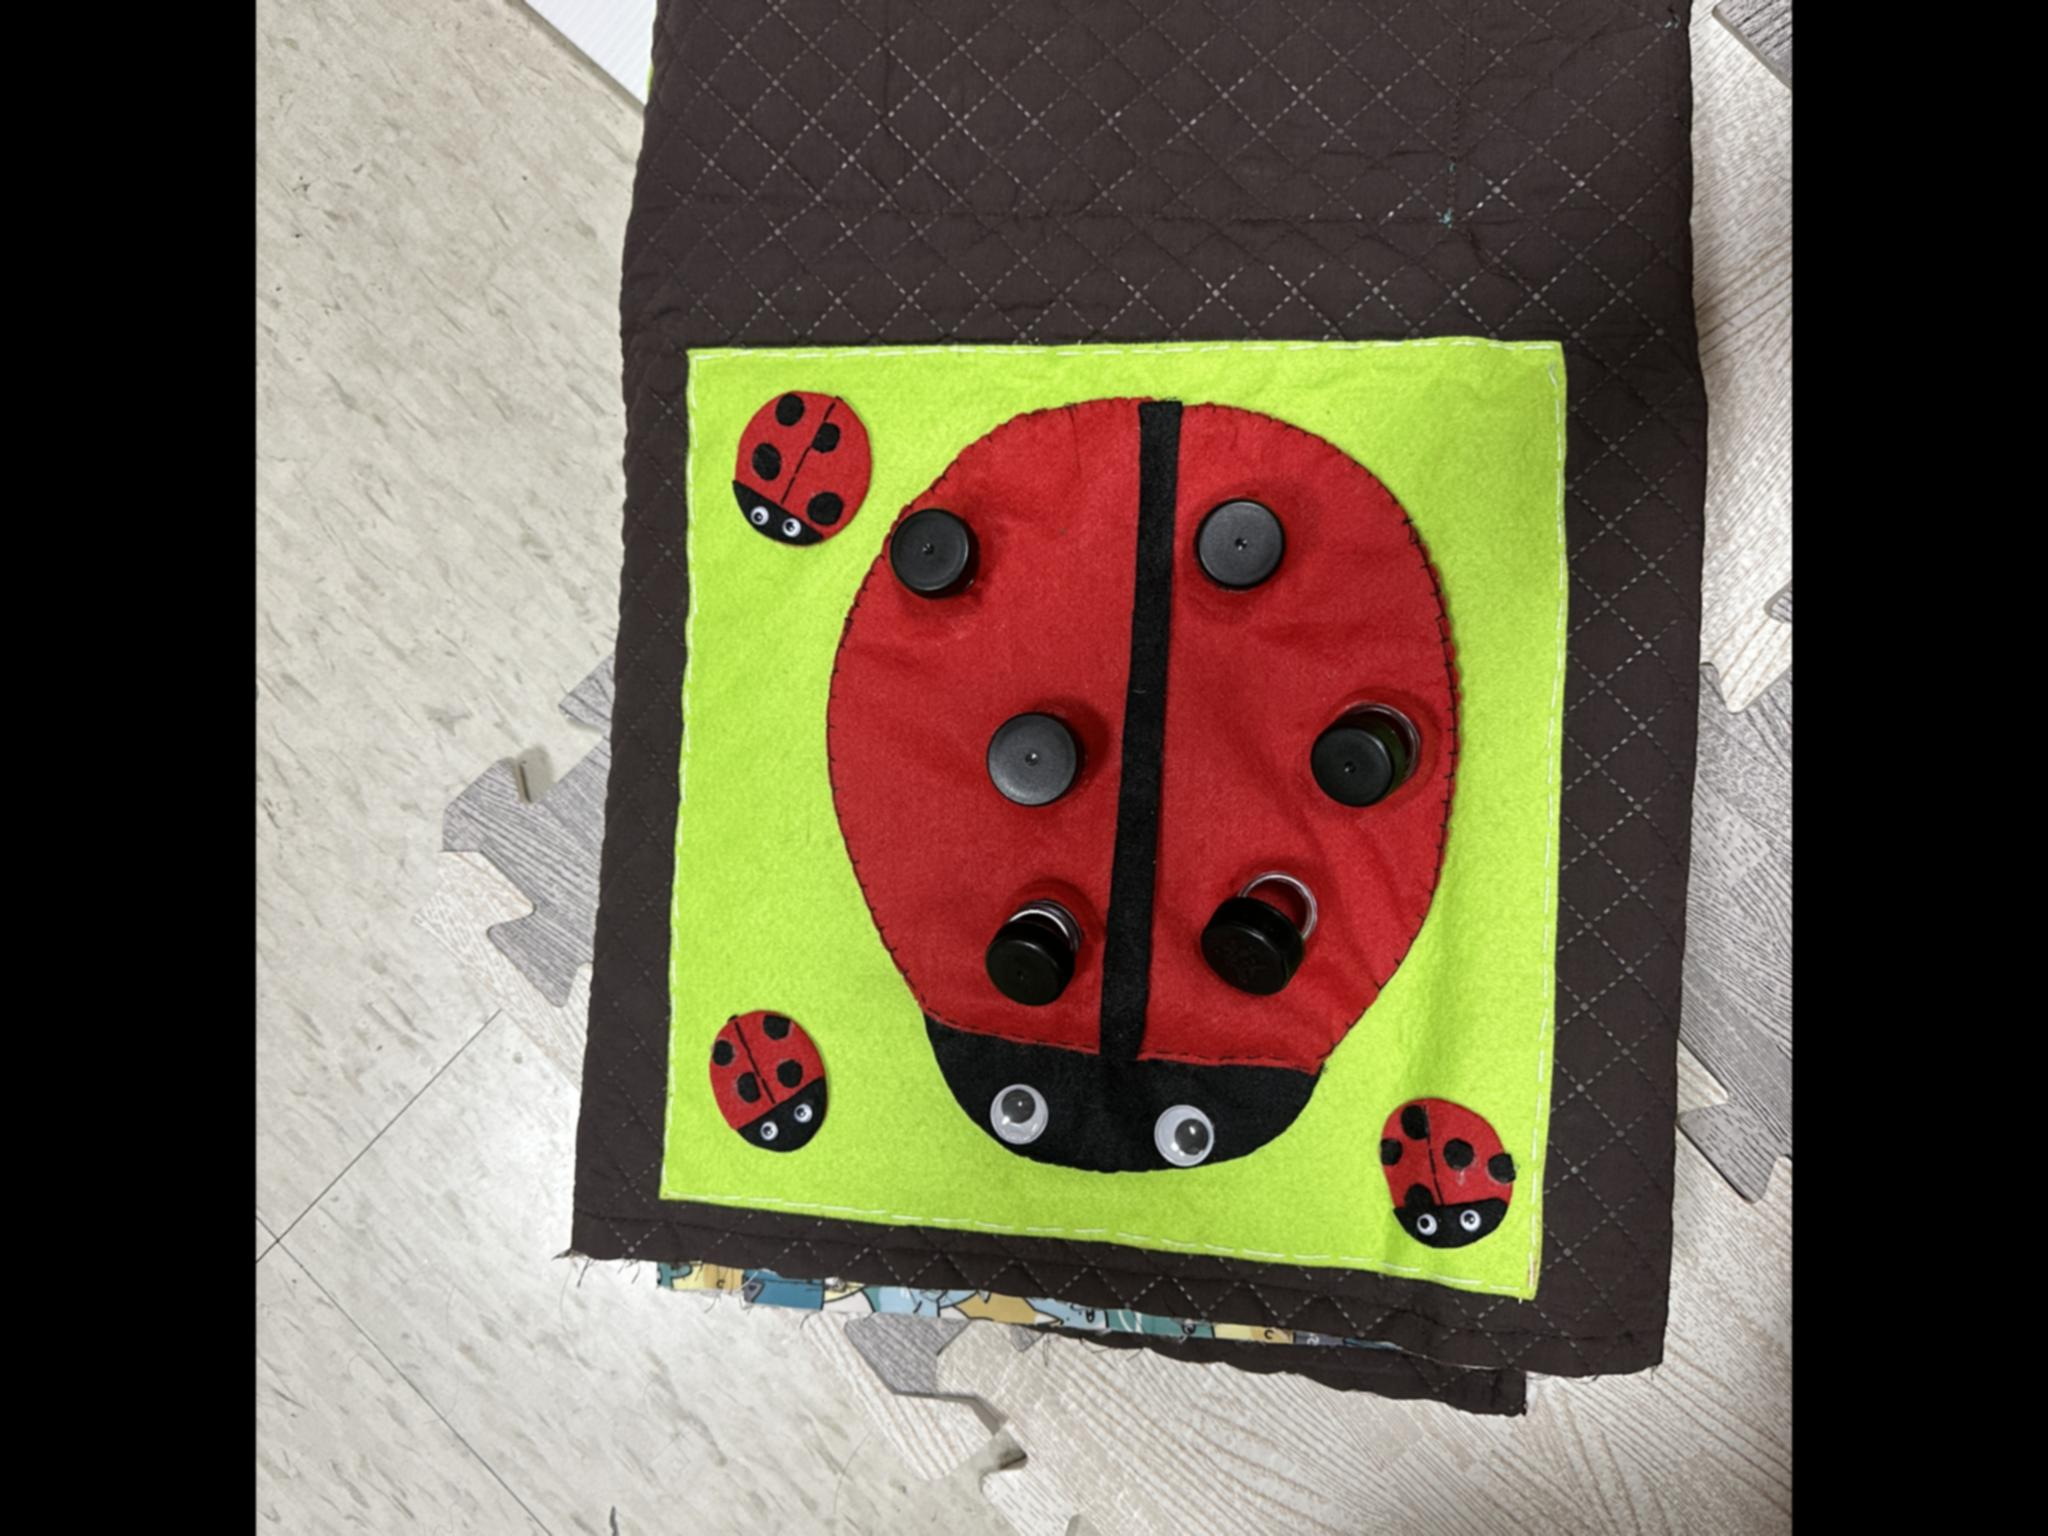cap_ng: (1180, 842, 1345, 1015), (964, 858, 1108, 1013)
cap_ok: (1297, 673, 1437, 826), (972, 687, 1095, 816), (882, 486, 998, 615), (1185, 478, 1295, 600)
